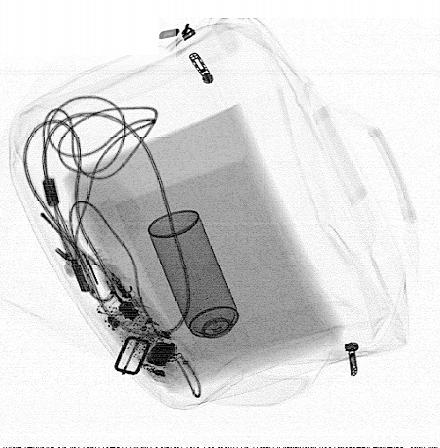Sprayer: (147, 209, 253, 365)
